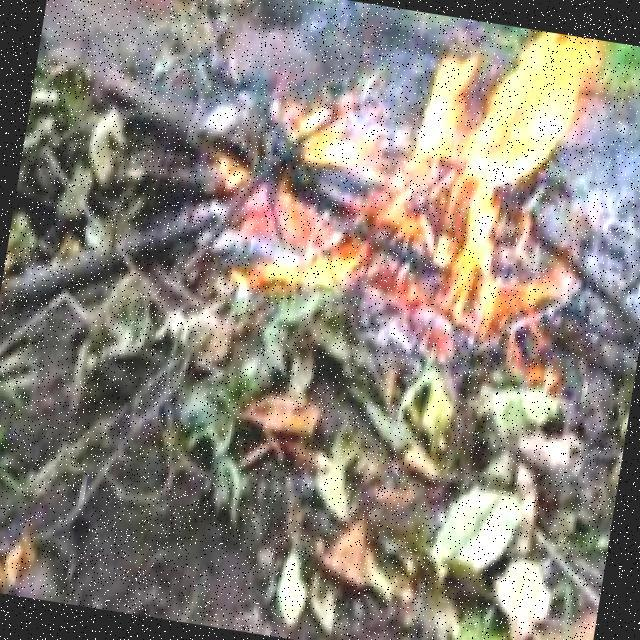Fire: (263, 0, 624, 346)
